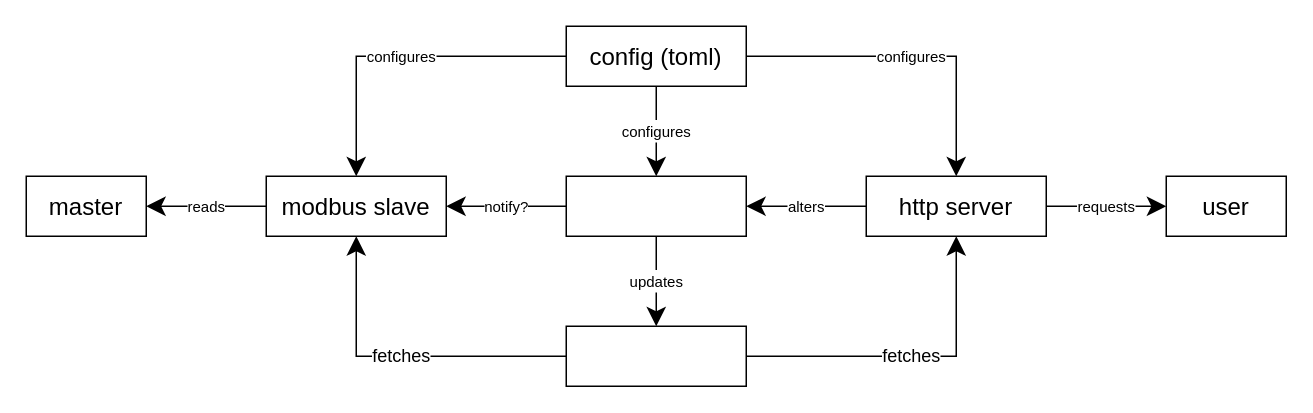
Some shapes in this 1313 by 413 pixel diagram are drawn without their labels. Each missing label, with the box of its shape:
database: (565, 325, 746, 386)
simulator: (565, 175, 746, 236)
